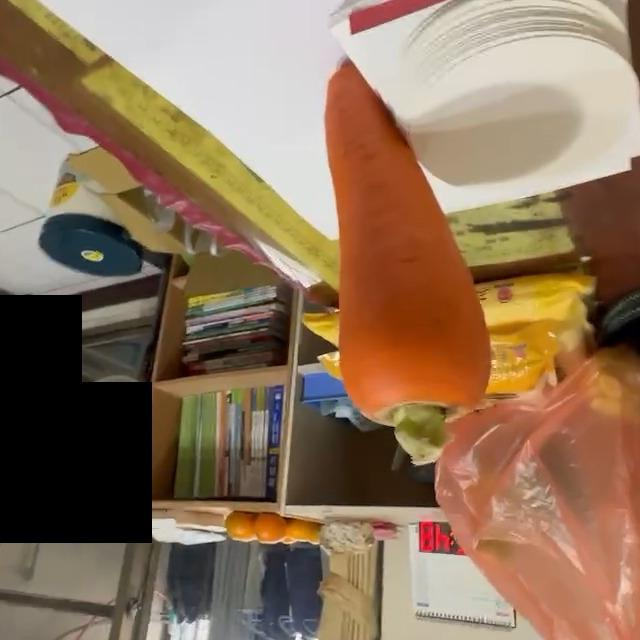carrot: (311, 63, 491, 466)
